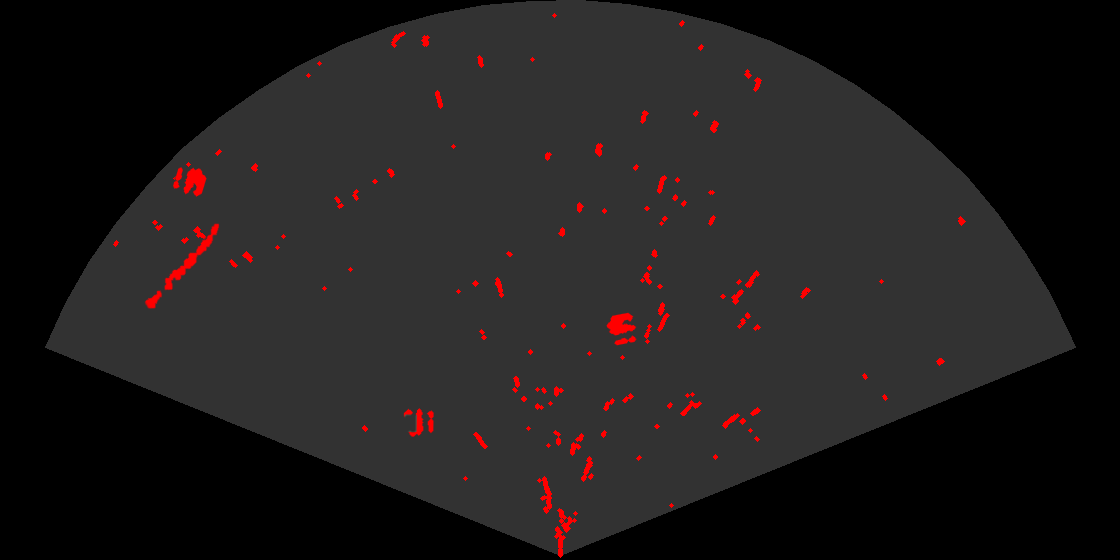ball: (605, 311, 638, 347), (171, 166, 208, 198), (402, 407, 435, 438)
chain: (143, 222, 221, 310)
